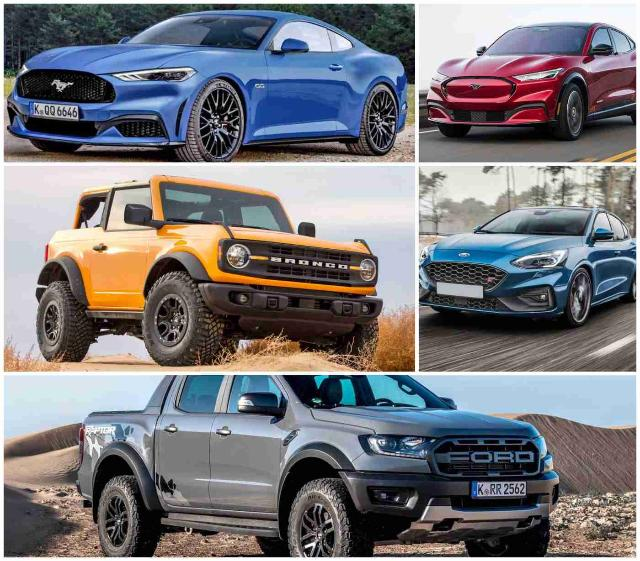ford: (76, 376, 562, 558), (35, 174, 383, 368), (7, 10, 410, 161), (419, 206, 637, 328), (426, 22, 640, 140)
